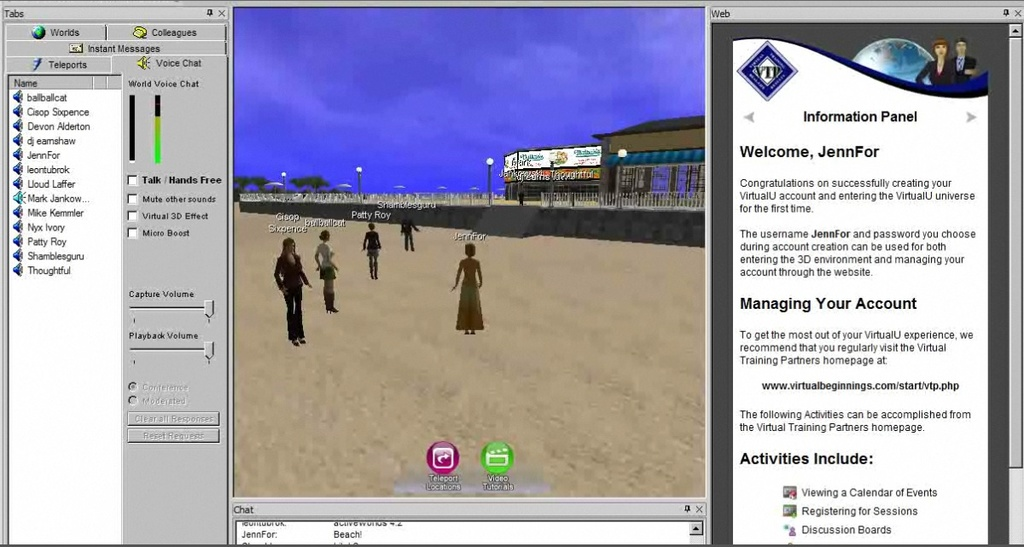Person: (274, 236, 312, 347), (450, 242, 483, 335), (314, 230, 340, 314), (359, 222, 382, 278), (399, 211, 421, 250)
